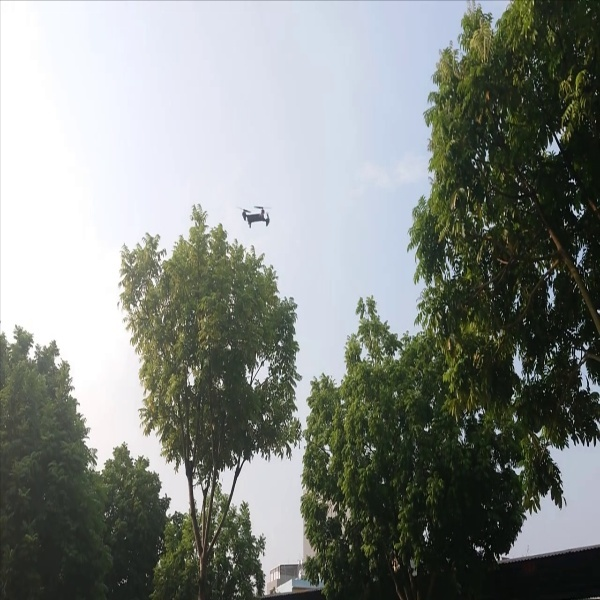drone: (232, 198, 280, 233)
